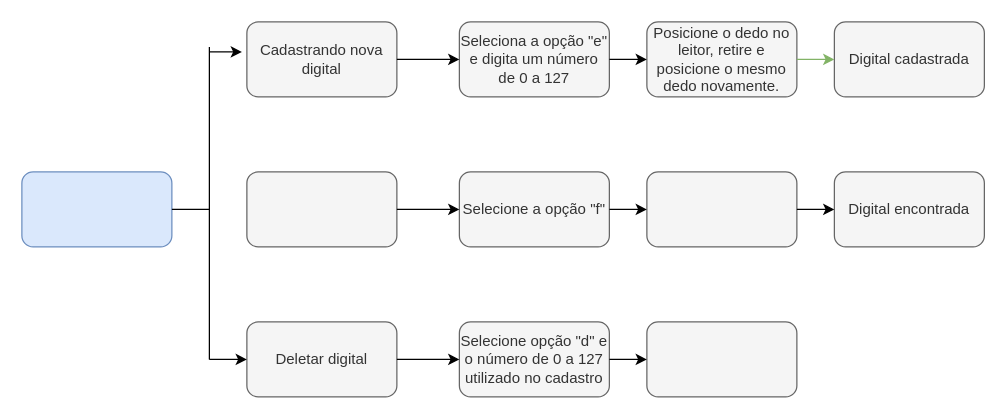
The diagram is 1006 pixels wide and 419 high, and some of its shapes have lost their labels. Here are the shapes that lost their labels. From the top down, the centre of each, then its label:
At point 96,209: "Impressão Digital".
At point 321,209: "Verificando digital".
At point 721,209: "Posicione no leitor o dedo com digital cadastrada".
At point 721,359: "Digital deletada".
